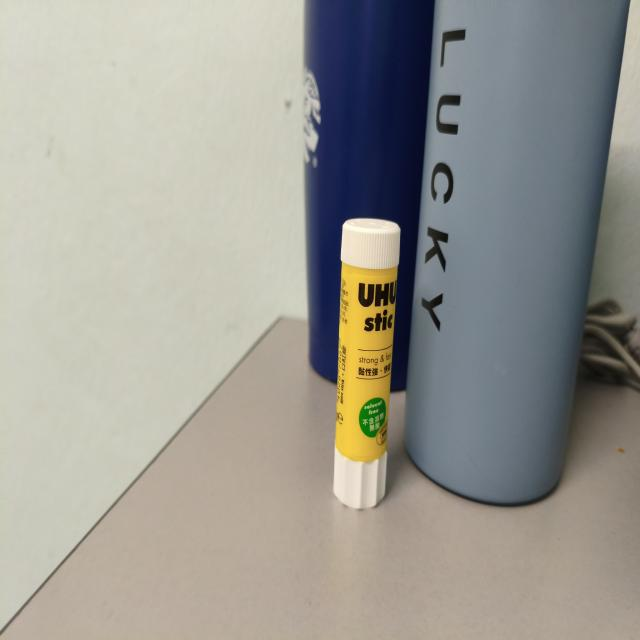glue: (333, 218, 400, 509)
